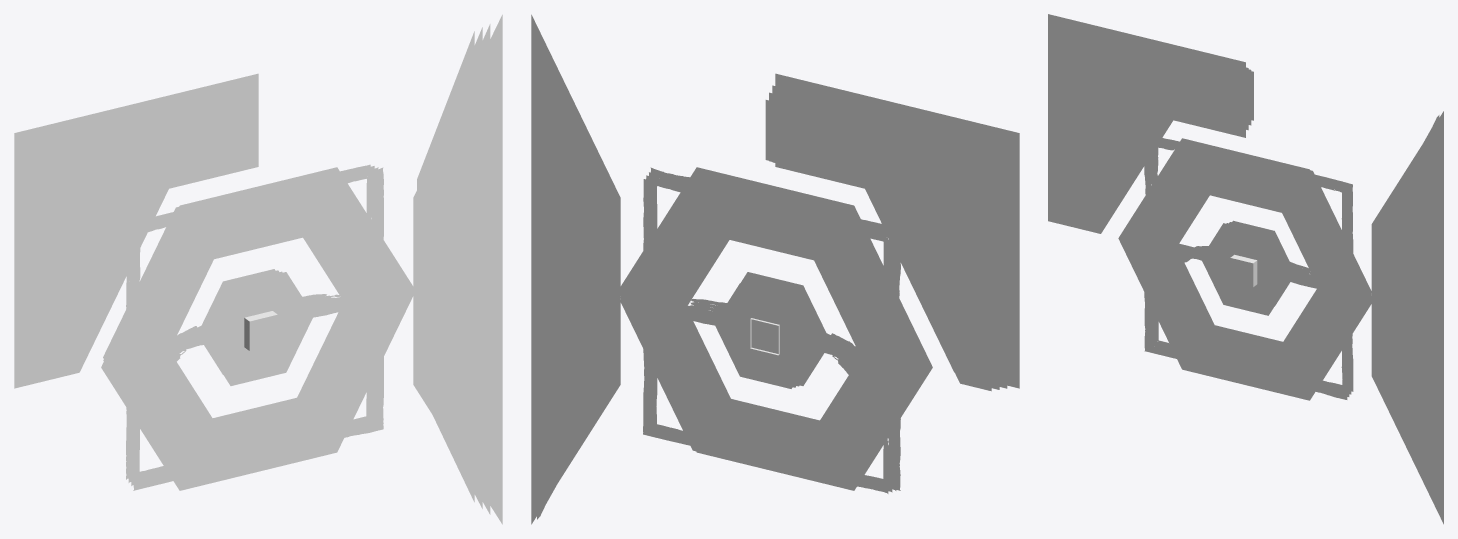
Rendered from sigil_circles_handles.glb.
3 renders of one model, left to right at view 1: azimuth 30°, elevation 25°; view 2: azimuth 150°, elevation 25°; view 3: azimuth 330°, elevation 25°, orthographic. The views are drawn at different scales.
Parts seen in each view (by area): view 1: fiend.sigil_set-MeshSets[sigil_circle_med_full].Mesh[0], fiend.sigil_set-MeshSets[sigil_circle_large_quarter].Mesh[0], fiend.sigil_set-MeshSets[sigil_circle_large_sixth].Mesh[0], fiend.sigil_set-MeshSets[sigil_circle_small_full].Mesh[0], fiend.sigil_set-MeshSets[sigil_square].Mesh[0], fiend.sigil_set-MeshSets[sigil_line_curled].Mesh[0], vertex.model-Mesh[0], fiend.sigil_set-MeshSets[sigil_line_straight].Mesh[0], fiend.sigil_set-MeshSets[sigil_circle_large_sixth].Mesh[1], fiend.sigil_set-MeshSets[sigil_square].Mesh[1], fiend.sigil_set-MeshSets[sigil_circle_med_full].Mesh[1]; view 2: fiend.sigil_set-MeshSets[sigil_circle_med_full].Mesh[1], fiend.sigil_set-MeshSets[sigil_circle_large_quarter].Mesh[1], fiend.sigil_set-MeshSets[sigil_circle_large_sixth].Mesh[1], fiend.sigil_set-MeshSets[sigil_circle_large_quarter].Mesh[0], fiend.sigil_set-MeshSets[sigil_circle_med_full].Mesh[0], fiend.sigil_set-MeshSets[sigil_circle_large_sixth].Mesh[0], fiend.sigil_set-MeshSets[sigil_circle_small_full].Mesh[1], fiend.sigil_set-MeshSets[sigil_square].Mesh[0], fiend.sigil_set-MeshSets[sigil_square].Mesh[1], fiend.sigil_set-MeshSets[sigil_circle_small_full].Mesh[0], fiend.sigil_set-MeshSets[sigil_line_curled].Mesh[0], fiend.sigil_set-MeshSets[sigil_line_curled].Mesh[1]; view 3: fiend.sigil_set-MeshSets[sigil_circle_med_full].Mesh[0], fiend.sigil_set-MeshSets[sigil_circle_large_quarter].Mesh[0], fiend.sigil_set-MeshSets[sigil_circle_large_sixth].Mesh[0], fiend.sigil_set-MeshSets[sigil_circle_small_full].Mesh[0], fiend.sigil_set-MeshSets[sigil_square].Mesh[0], fiend.sigil_set-MeshSets[sigil_line_curled].Mesh[0], fiend.sigil_set-MeshSets[sigil_line_straight].Mesh[0], fiend.sigil_set-MeshSets[sigil_square].Mesh[1], vertex.model-Mesh[0], fiend.sigil_set-MeshSets[sigil_circle_med_full].Mesh[1].
Part boxes in pixels (x1,y1,x2,y2): fiend.sigil_set-MeshSets[sigil_circle_med_full].Mesh[0]: (101,167,415,490); fiend.sigil_set-MeshSets[sigil_circle_large_quarter].Mesh[0]: (14,73,258,388); fiend.sigil_set-MeshSets[sigil_circle_large_sixth].Mesh[0]: (413,14,502,524); fiend.sigil_set-MeshSets[sigil_circle_small_full].Mesh[0]: (202,270,312,385); fiend.sigil_set-MeshSets[sigil_square].Mesh[0]: (128,166,383,490); fiend.sigil_set-MeshSets[sigil_line_curled].Mesh[0]: (133,295,384,377); vertex.model-Mesh[0]: (244,311,277,350); fiend.sigil_set-MeshSets[sigil_line_straight].Mesh[0]: (136,298,377,360); fiend.sigil_set-MeshSets[sigil_circle_large_sixth].Mesh[1]: (417,31,474,502); fiend.sigil_set-MeshSets[sigil_square].Mesh[1]: (126,164,370,479); fiend.sigil_set-MeshSets[sigil_circle_med_full].Mesh[1]: (103,207,341,419); fiend.sigil_set-MeshSets[sigil_circle_med_full].Mesh[1]: (620,186,911,485); fiend.sigil_set-MeshSets[sigil_circle_large_quarter].Mesh[1]: (765,100,991,391); fiend.sigil_set-MeshSets[sigil_circle_large_sixth].Mesh[1]: (539,45,597,516); fiend.sigil_set-MeshSets[sigil_circle_large_quarter].Mesh[0]: (769,73,1019,389); fiend.sigil_set-MeshSets[sigil_circle_med_full].Mesh[0]: (618,167,932,490); fiend.sigil_set-MeshSets[sigil_circle_large_sixth].Mesh[0]: (531,14,620,524); fiend.sigil_set-MeshSets[sigil_circle_small_full].Mesh[1]: (714,283,816,388); fiend.sigil_set-MeshSets[sigil_square].Mesh[0]: (646,167,900,492); fiend.sigil_set-MeshSets[sigil_square].Mesh[1]: (643,179,888,493); fiend.sigil_set-MeshSets[sigil_circle_small_full].Mesh[0]: (740,272,827,387); fiend.sigil_set-MeshSets[sigil_line_curled].Mesh[0]: (676,299,859,363); fiend.sigil_set-MeshSets[sigil_line_curled].Mesh[1]: (647,307,877,376); fiend.sigil_set-MeshSets[sigil_circle_med_full].Mesh[0]: (1118,138,1371,400); fiend.sigil_set-MeshSets[sigil_circle_large_quarter].Mesh[0]: (1048,14,1251,233); fiend.sigil_set-MeshSets[sigil_circle_large_sixth].Mesh[0]: (1371,111,1443,524); fiend.sigil_set-MeshSets[sigil_circle_small_full].Mesh[0]: (1202,222,1293,315); fiend.sigil_set-MeshSets[sigil_square].Mesh[0]: (1144,139,1351,399); fiend.sigil_set-MeshSets[sigil_line_curled].Mesh[0]: (1144,230,1349,301); fiend.sigil_set-MeshSets[sigil_line_straight].Mesh[0]: (1147,244,1344,295); fiend.sigil_set-MeshSets[sigil_square].Mesh[1]: (1155,138,1353,391); vertex.model-Mesh[0]: (1230,254,1257,287); fiend.sigil_set-MeshSets[sigil_circle_med_full].Mesh[1]: (1183,170,1371,342).
Size of the model in its own units: 4.32 by 4.32 by 0.25.
4 materials, 3 textured.
